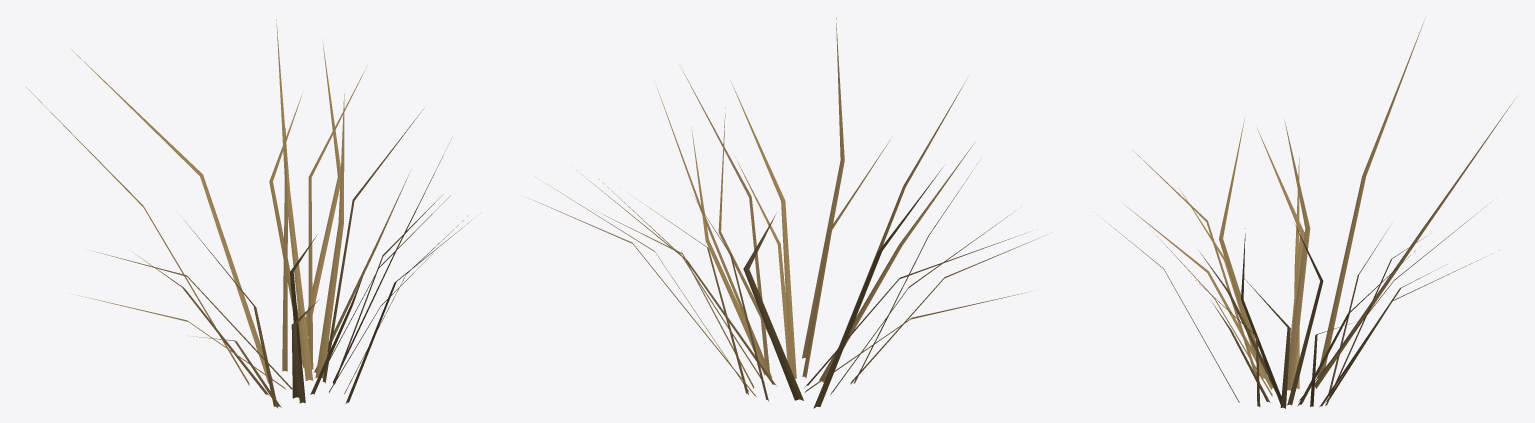
File: SM_CN_Grass_B_LOD2.glb
3 renders of one model, left to right at view 1: azimuth 30°, elevation 25°; view 2: azimuth 150°, elevation 25°; view 3: azimuth 270°, elevation 25°, orthographic. The views are drawn at different scales.
Parts seen in each view (by area): view 1: SM_CN_Grass_B_LOD2; view 2: SM_CN_Grass_B_LOD2; view 3: SM_CN_Grass_B_LOD2.
Boxes of the visible parts, x1,y1,x2,y2 form: SM_CN_Grass_B_LOD2: (26, 19, 471, 408); SM_CN_Grass_B_LOD2: (526, 17, 1047, 408); SM_CN_Grass_B_LOD2: (1098, 17, 1516, 408).
Size of the model in its own units: 0.8372 by 0.64 by 0.88.
1 material, 1 textured.
